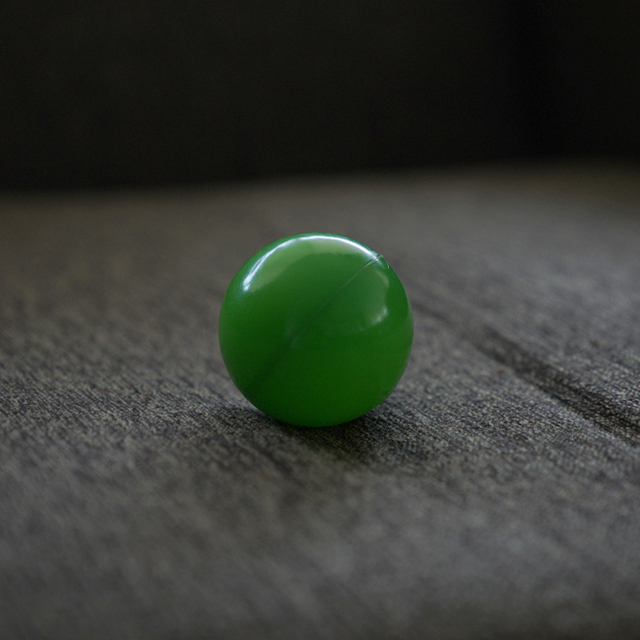Ball: (223, 233, 411, 429)
